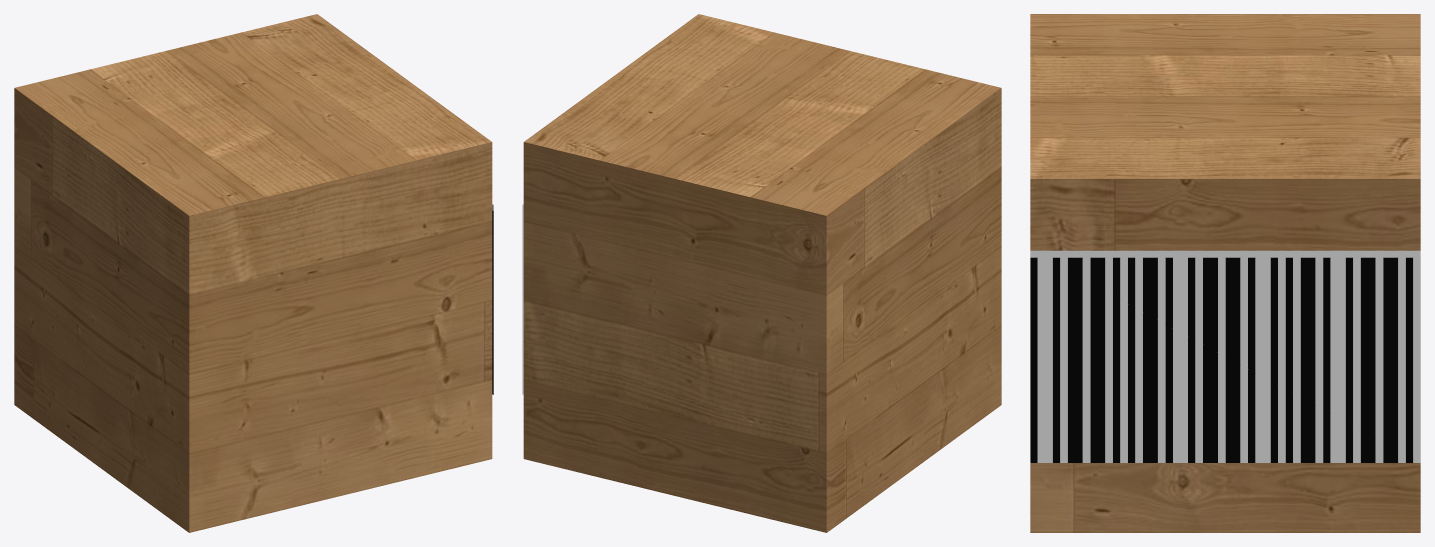
The model's file is caixa B1.dae.
The picture shows the model from 3 angles, left to right: view 1: azimuth 30°, elevation 25°; view 2: azimuth 150°, elevation 25°; view 3: azimuth 270°, elevation 25°; orthographic projection. The views are drawn at different scales.
Visible parts, largest first — view 1: Cube; view 2: Cube; view 3: Cube, Plane.
Part boxes in pixels (bbox=[...]): Cube: bbox=[14, 14, 492, 532]; Cube: bbox=[523, 14, 1001, 532]; Cube: bbox=[1030, 14, 1420, 532]; Plane: bbox=[1030, 250, 1420, 462].
Bounding box in the file's own units: 0.1005 × 0.1 × 0.1.
Materials: 2 (2 with a texture image).
